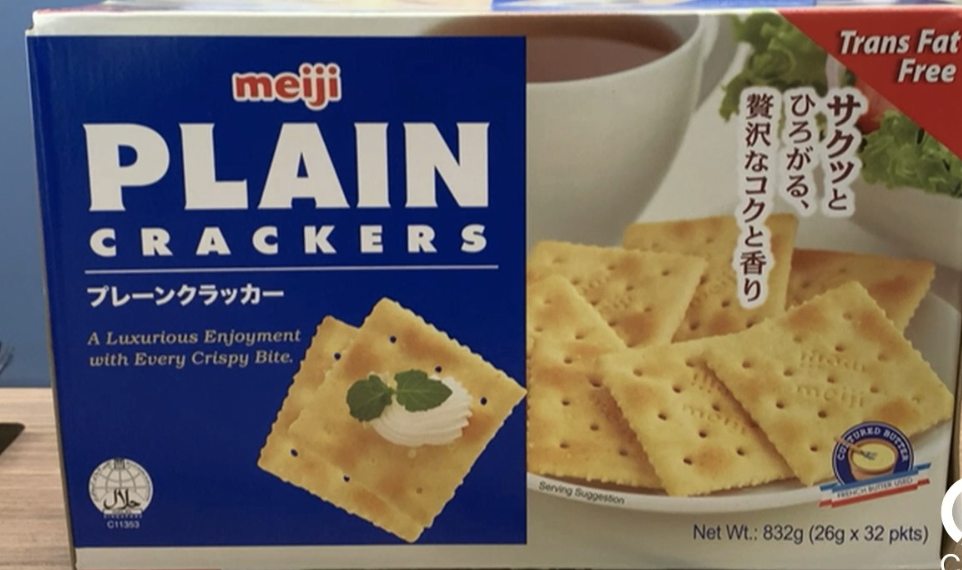crackers_850g: (80, 39, 931, 553)
